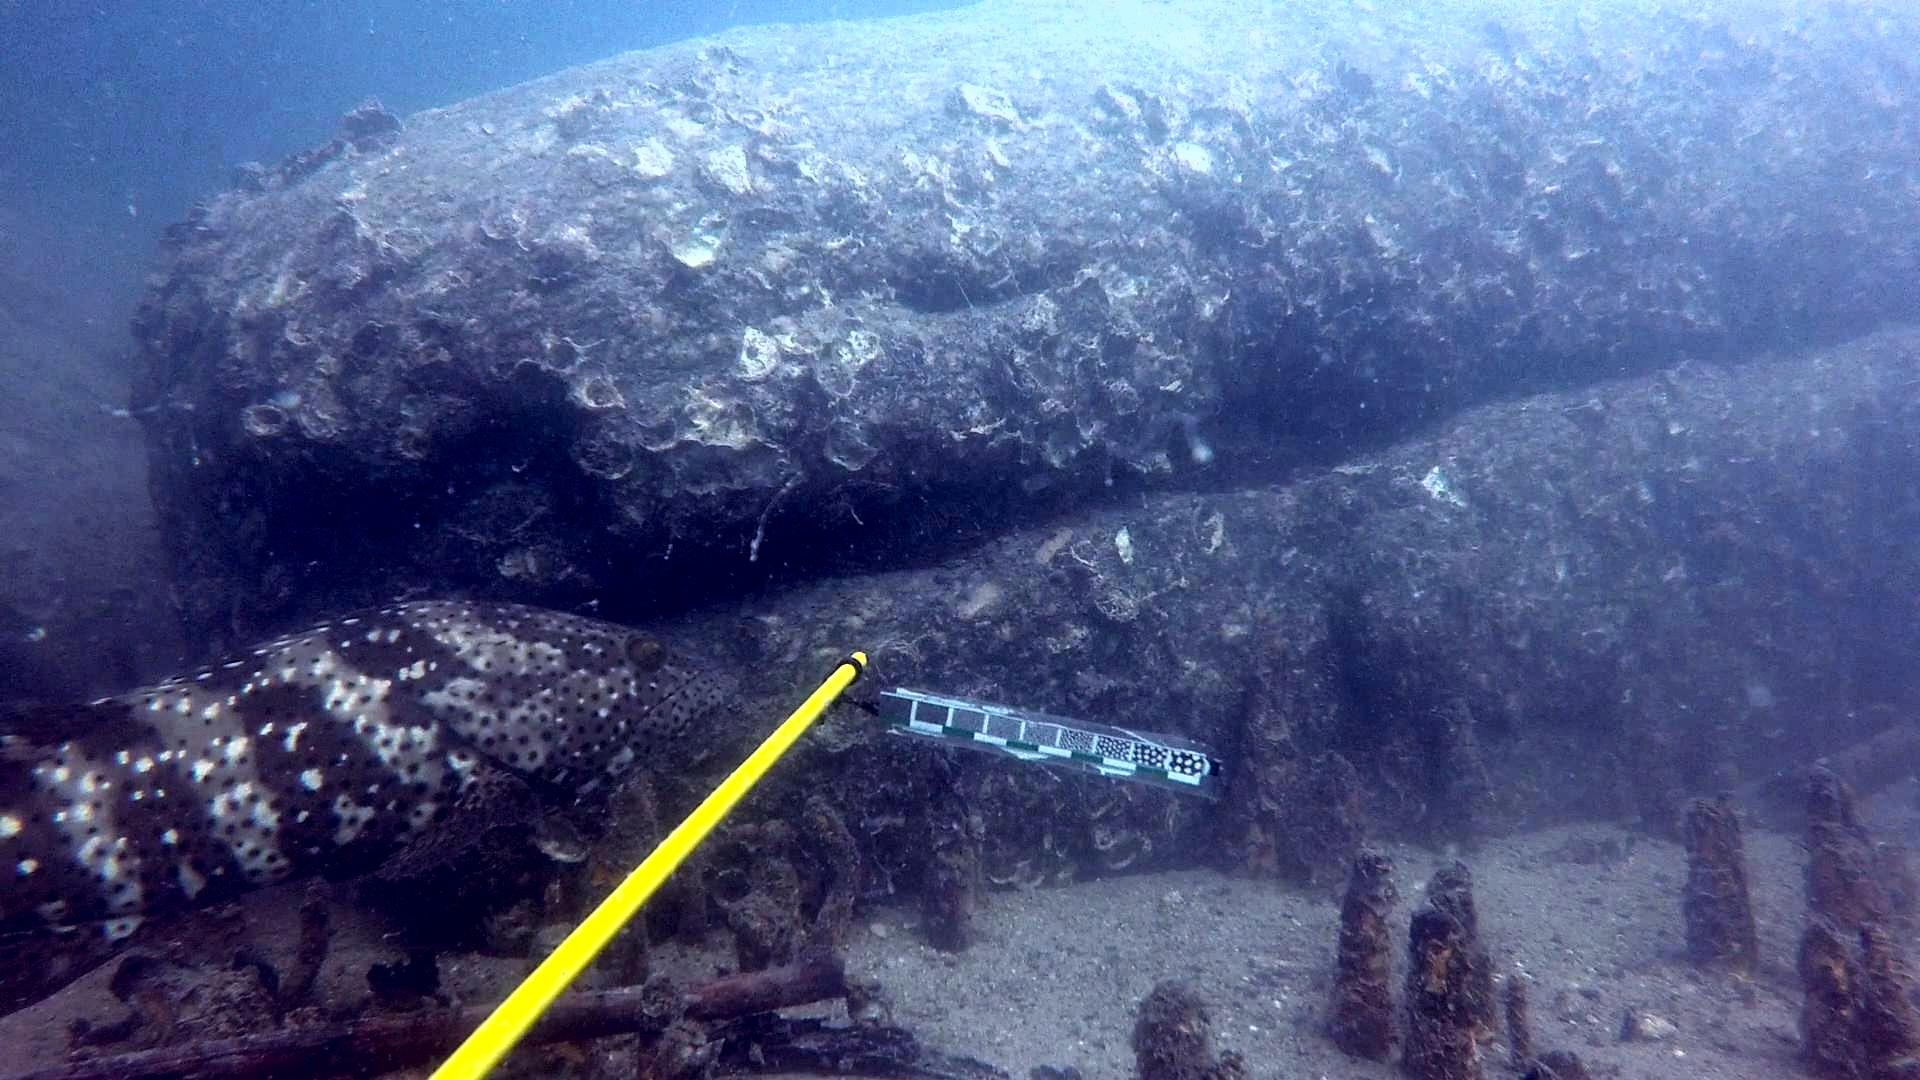epinephelus: (0, 588, 749, 1030)
